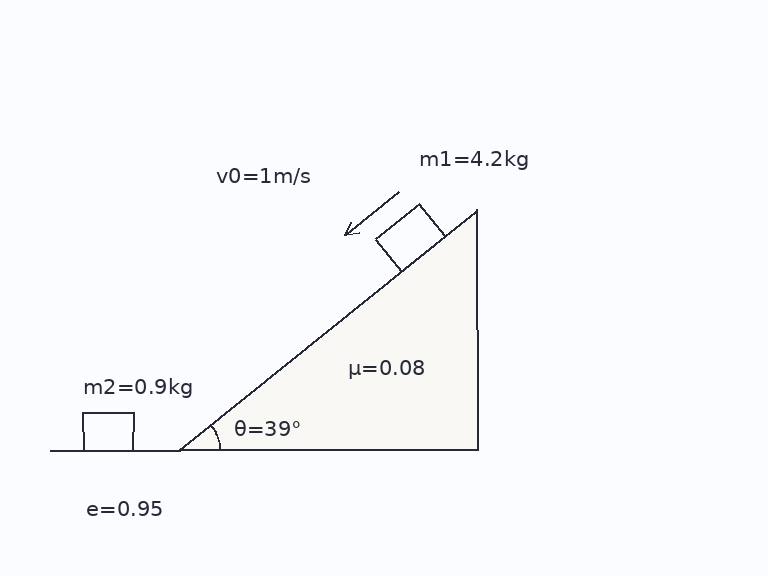block: (373, 202, 446, 273), (80, 411, 136, 452)
ramp: (178, 208, 478, 452)
